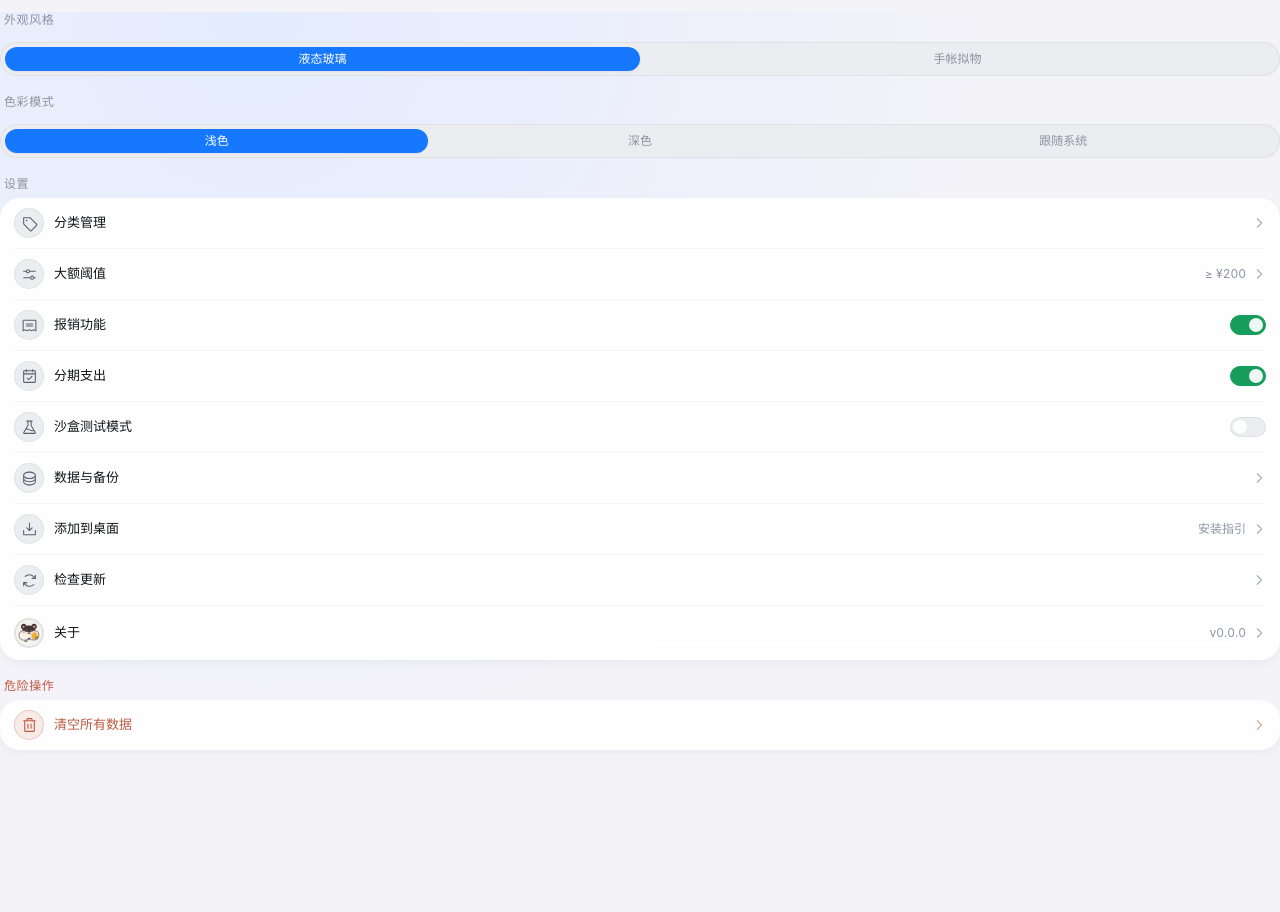
it: SettingsCard PWA install row visibility › reveals GitHub repository link and description inside expanded About section
Click the text "关于" at [67, 633], box [54,623,80,643]
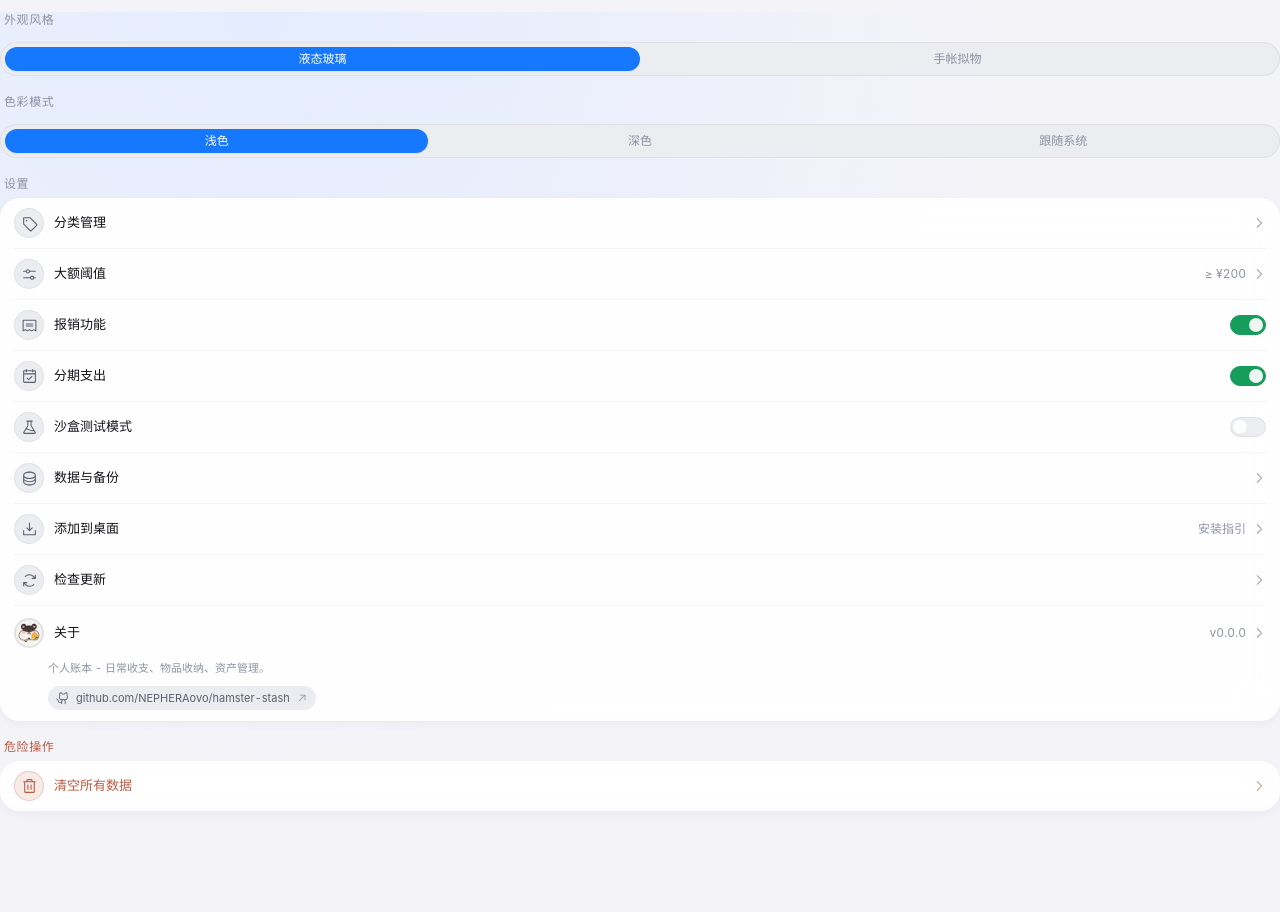
Expected: the text "个人账本 - 日常收支、物品收纳、资产管理。" is shown, [48,661,270,675]
